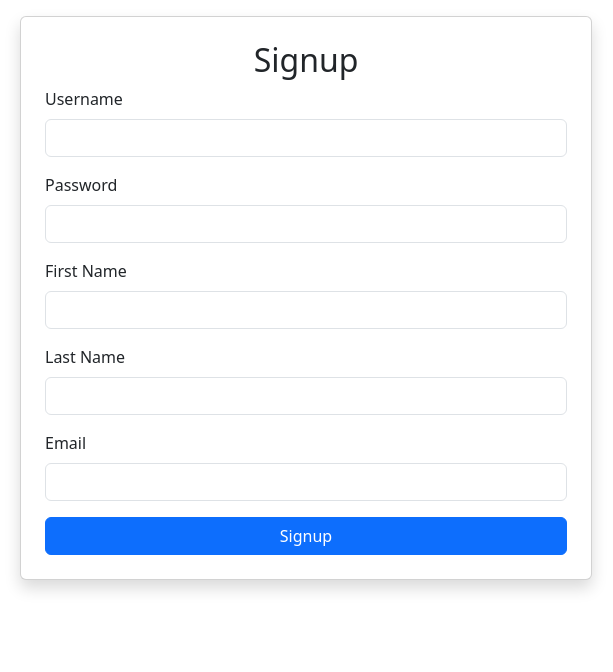
SignupForm Component › displays an error message when signup fails
Note: Fill out the form
Type "testuser4" into the field labelled "Username" at [306, 138], box top-left (45, 119), bottom-right (567, 157)
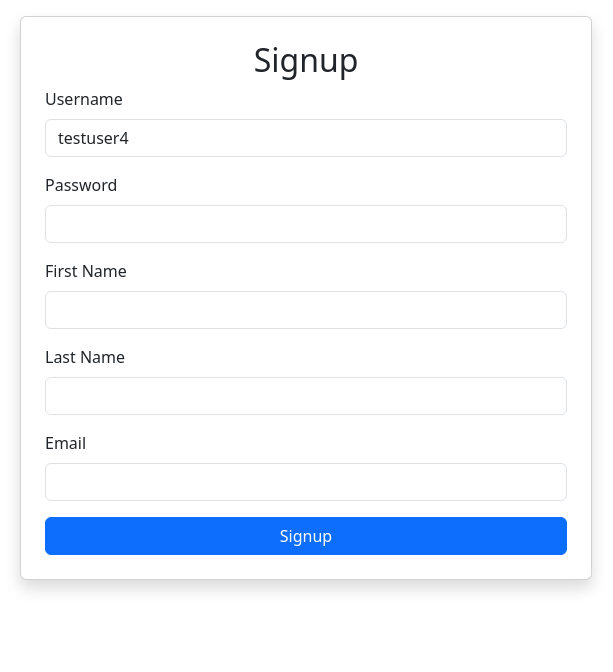
Type "password123" into the password field labelled "Password" at [306, 224], box top-left (45, 205), bottom-right (567, 243)
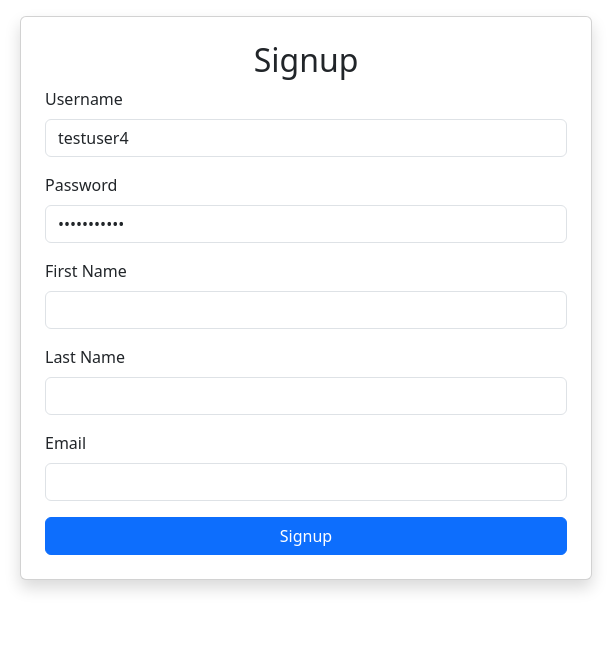
Type "testuser4@example.com" into the field labelled "Email" at [306, 482], box top-left (45, 463), bottom-right (567, 501)
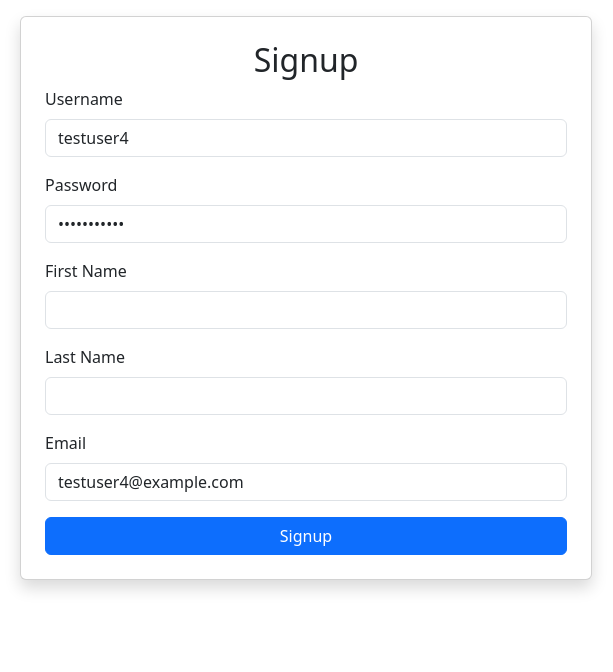
Type "Test" into the field labelled "First Name" at [306, 310], box top-left (45, 291), bottom-right (567, 329)
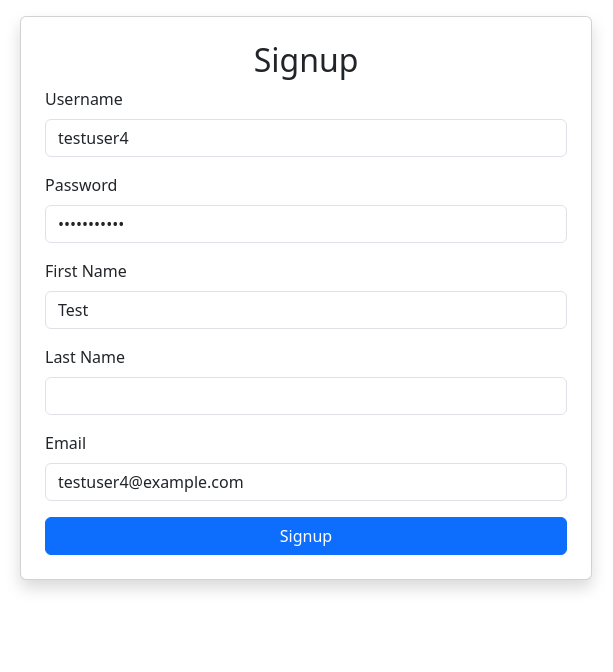
Type "User" into the field labelled "Last Name" at [306, 396], box top-left (45, 377), bottom-right (567, 415)
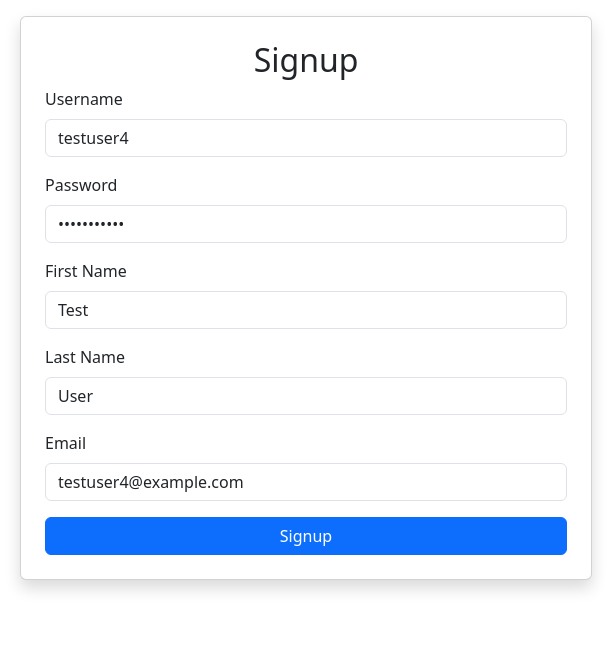
Note: Submit the form
Click the button "Signup" at [306, 536], box top-left (45, 517), bottom-right (567, 555)
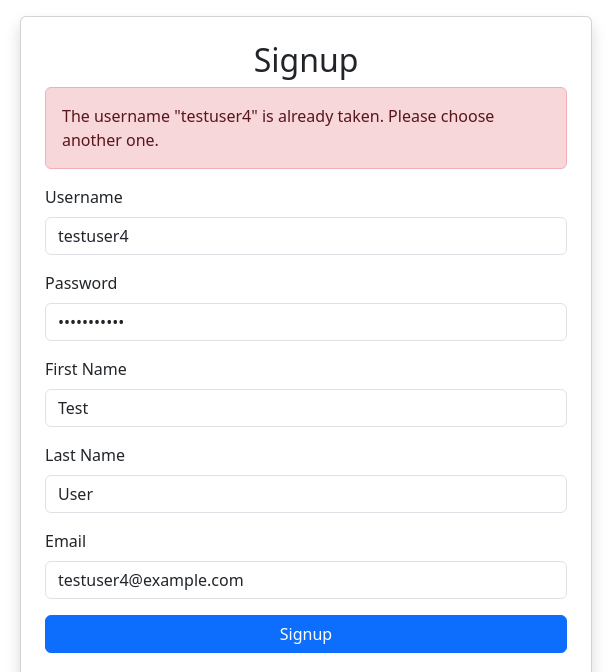
expect the text "The username \"testuser4\" is already taken. Please choose another one." is shown: met, box top-left (45, 87), bottom-right (567, 169)
